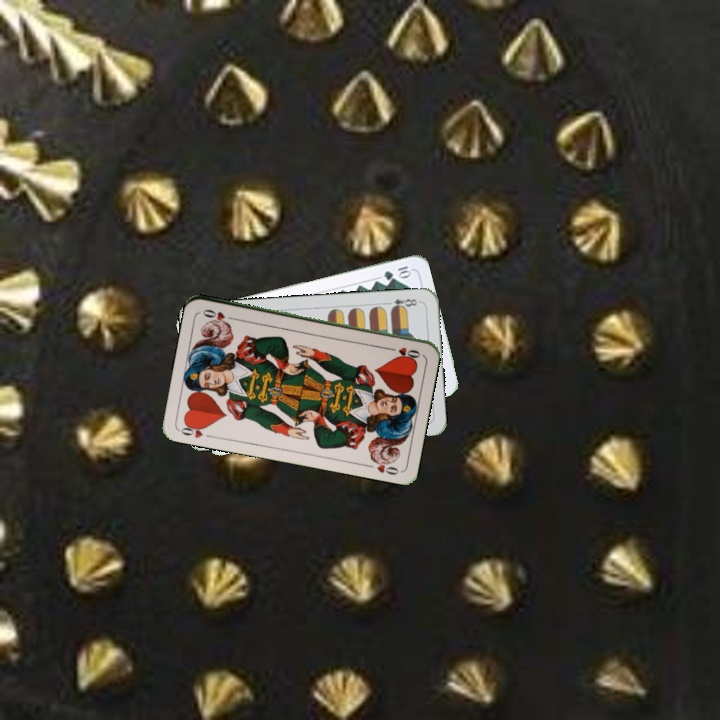E8: (382, 295, 423, 313)
G10: (379, 262, 414, 282)
HO: (177, 419, 216, 441), (383, 343, 423, 360)
